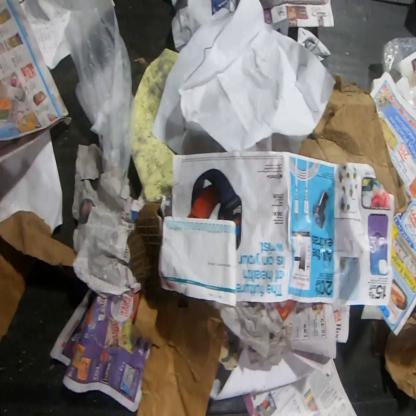cardboard: (296, 71, 411, 217), (0, 209, 78, 347), (170, 0, 239, 53), (383, 304, 415, 402)
soft_plastic: (52, 0, 136, 180), (380, 36, 415, 110)
